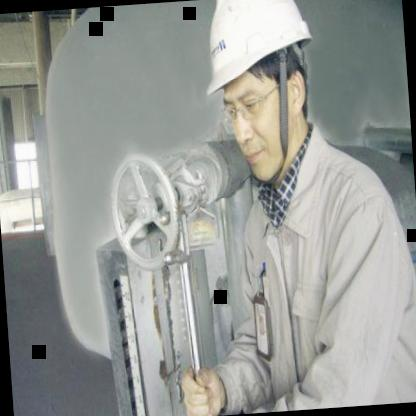helmet: (194, 0, 332, 189)
